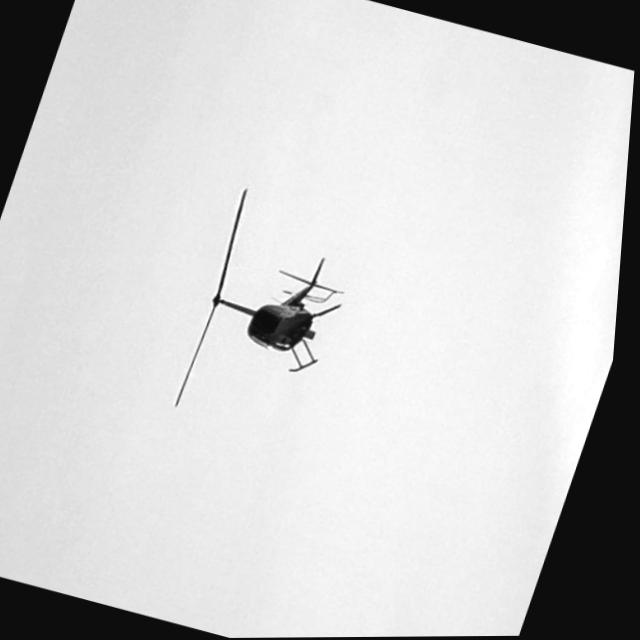helikopter: (160, 189, 386, 465)
